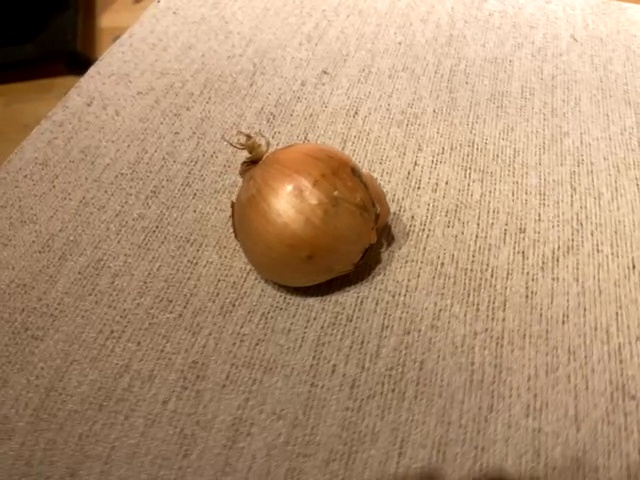onion: (216, 127, 401, 294)
